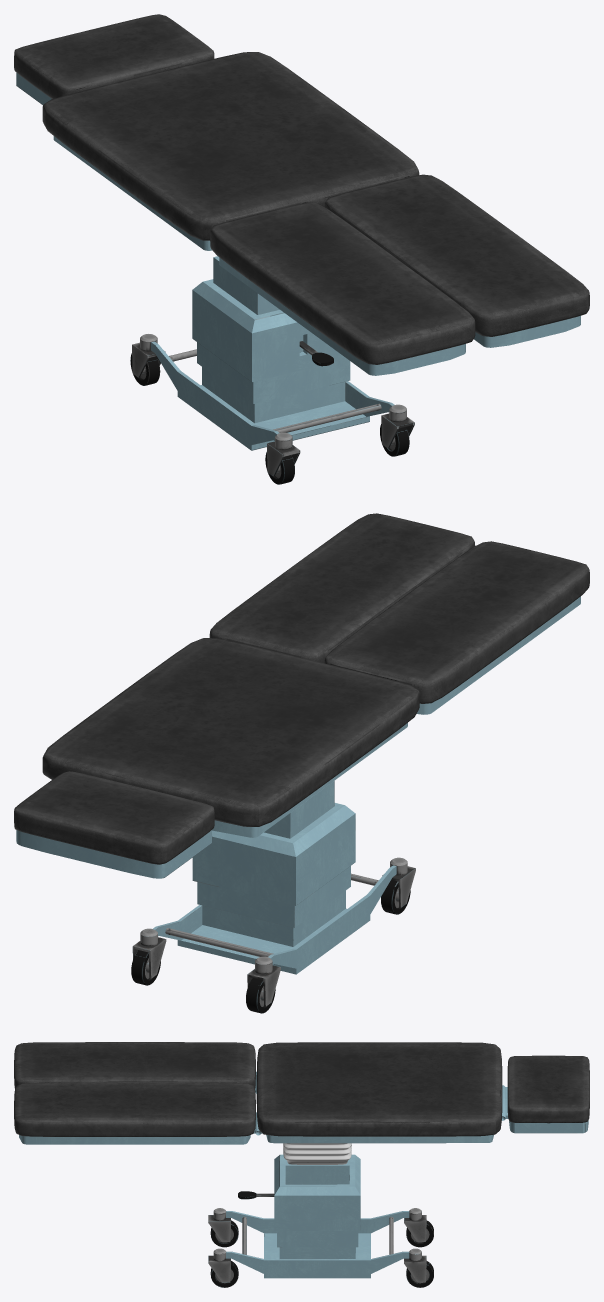
The model's file is MedBed_Altered_AA.fbx.
3 renders of one model, top to bottom at view 1: azimuth 30°, elevation 25°; view 2: azimuth 150°, elevation 25°; view 3: azimuth 270°, elevation 25°, orthographic. The views are drawn at different scales.
Parts seen in each view (by area): view 1: Matres, Matres.002, MedBed_Altered, Matres.003, Matres.001, Construction.004, Construction.005, Wheel3, Wheel4, Wheel1, Construction.002; view 2: Matres, MedBed_Altered, Matres.002, Matres.003, Matres.001, Construction.003, Construction.004, Wheel1, Wheel2, Construction.002, Wheel4; view 3: Matres, MedBed_Altered, Matres.003, Matres.002, Matres.001, Construction.002, Construction.005, Spring, Construction.003, Wheel3, Wheel4, Wheel2 (+1 smaller).
Part boxes in pixels (x1,y1,x2,y2): Matres: (42, 52, 419, 240); Matres.002: (210, 202, 475, 364); MedBed_Altered: (140, 256, 406, 450); Matres.003: (324, 174, 589, 336); Matres.001: (14, 14, 214, 98); Construction.004: (219, 257, 465, 375); Construction.005: (474, 315, 580, 347); Wheel3: (380, 413, 414, 456); Wheel4: (265, 441, 300, 484); Wheel1: (130, 342, 165, 385); Construction.002: (53, 136, 212, 250); Matres: (42, 638, 419, 826); MedBed_Altered: (140, 781, 407, 974); Matres.002: (324, 541, 589, 703); Matres.003: (209, 513, 475, 663); Matres.001: (14, 771, 214, 864); Construction.003: (16, 830, 211, 878); Construction.004: (416, 596, 580, 714); Wheel1: (246, 965, 280, 1013); Wheel2: (131, 937, 166, 985); Construction.002: (212, 723, 407, 837); Wheel4: (381, 866, 415, 914); Matres: (256, 1042, 502, 1136); MedBed_Altered: (213, 1154, 421, 1278); Matres.003: (14, 1082, 255, 1136); Matres.002: (14, 1042, 255, 1089); Matres.001: (507, 1055, 589, 1123); Construction.002: (255, 1071, 493, 1143); Construction.005: (19, 1129, 255, 1144); Spring: (283, 1143, 351, 1164); Construction.003: (502, 1085, 588, 1133); Wheel3: (208, 1255, 238, 1287); Wheel4: (208, 1215, 238, 1247); Wheel2: (404, 1255, 433, 1287).
Bounding box in the file's own units: 0.6963 × 2.09 × 0.744.
